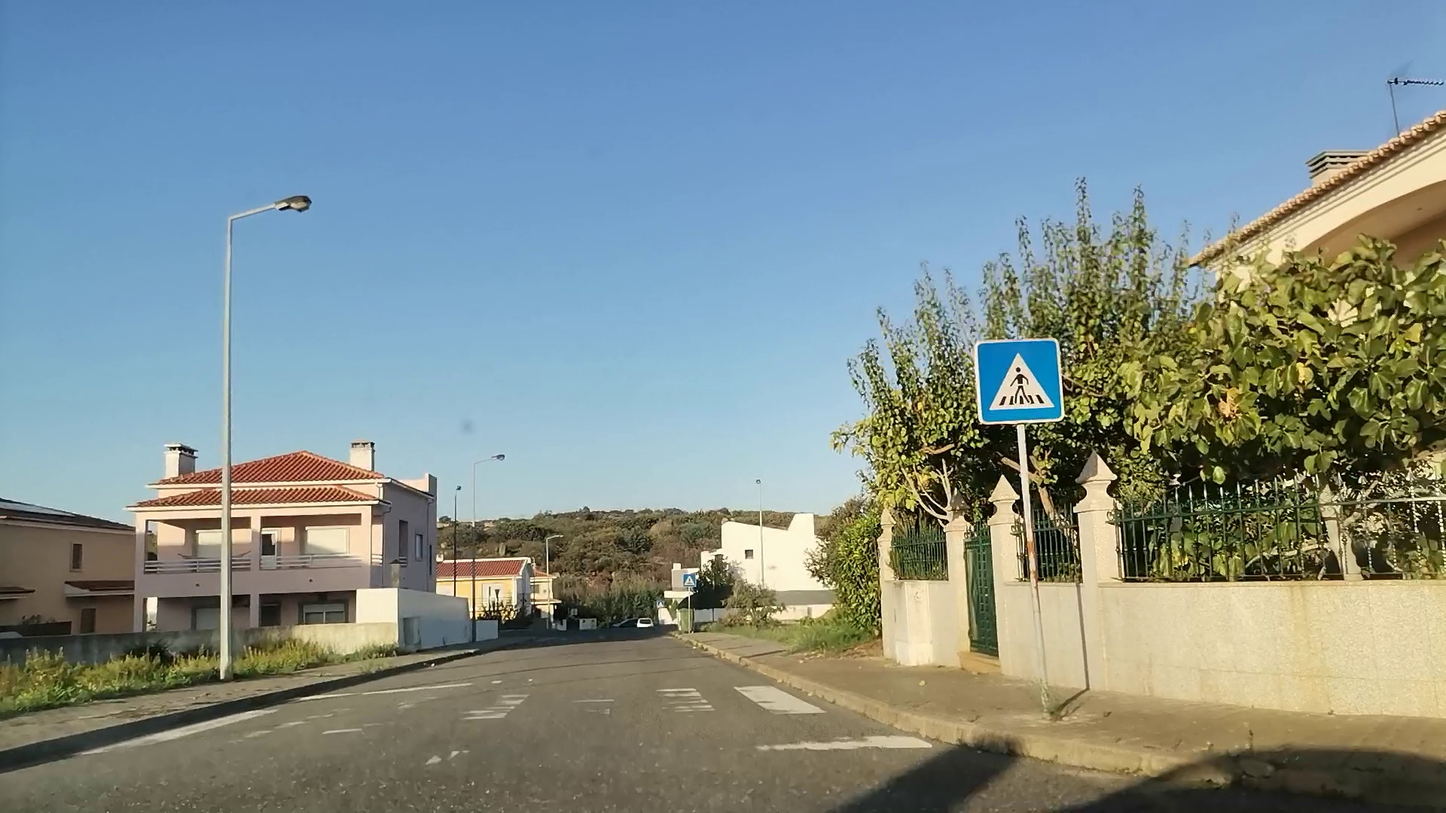Stairs: (88, 681, 828, 753)
